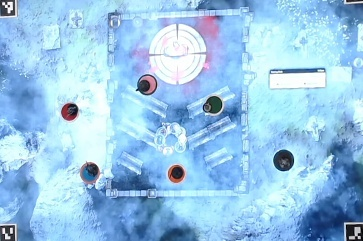brown_turquoise: (273, 150, 296, 173)
green: (201, 94, 224, 117)
light_blue_orange: (77, 160, 100, 183)
orange: (165, 163, 188, 186)
pink_green: (135, 74, 158, 97)
red: (57, 104, 80, 127)
